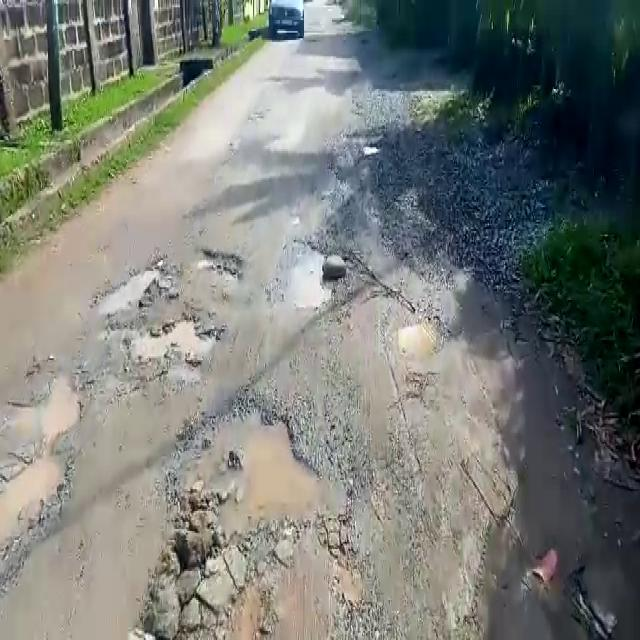Pothole: (152, 400, 365, 562), (0, 446, 68, 570), (131, 314, 222, 370), (274, 237, 334, 312), (88, 259, 168, 313), (24, 368, 84, 440), (397, 317, 439, 359)
